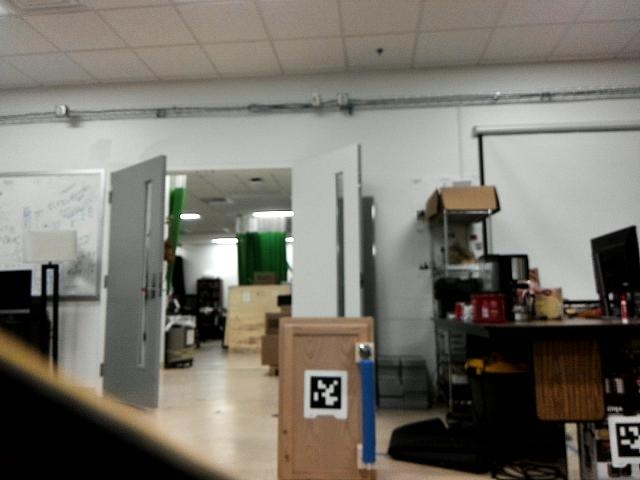noodle_handle: (352, 358, 381, 462)
